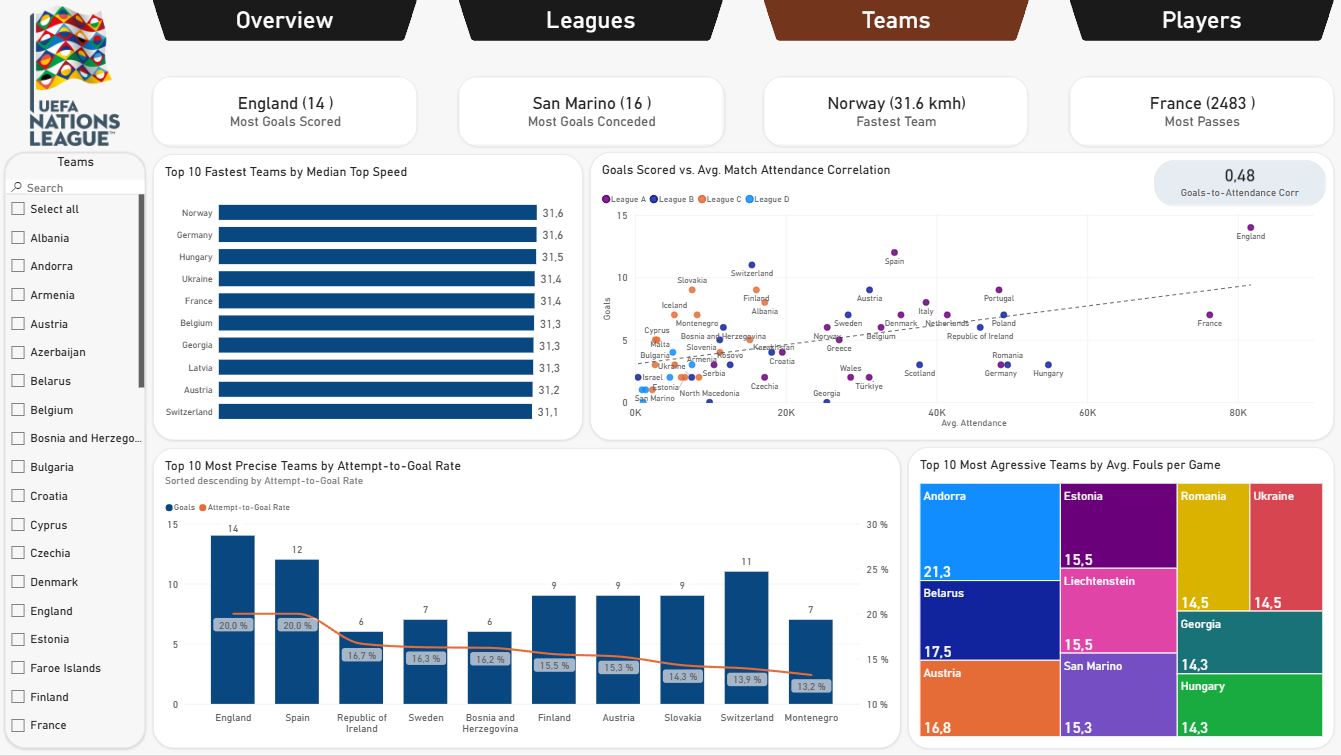

The page's visual inventory and layout, read from the dashboard file:
{"tool":"powerbi","page":{"name":"Teams","canvas":[1920,1080],"ordinal":2},"visuals":[{"type":"image","box":[10,10,200,200],"z":0},{"type":"cardVisual","fields":{"Data":["calculations.teams_most_goals"]},"box":[220.3,109.4,379.3,100.7],"z":1000},{"type":"cardVisual","fields":{"Data":["calculations.teams_most_goals_conceded"]},"box":[656.5,109.4,380.8,100.7],"z":2000},{"type":"cardVisual","fields":{"Data":["calculations.teams_most_passes"]},"box":[1530.5,109.4,379.3,100.7],"z":4000},{"type":"slicer","title":"Teams","fields":{"Values":["dim_teams.team_name"]},"box":[10,220,200,850],"z":5000},{"type":"actionButton","box":[220,0,379.3,59.8],"z":6000},{"type":"actionButton","box":[1093.3,0,380.8,59.8],"z":7000},{"type":"actionButton","box":[1530,0,379.3,59.8],"z":8000},{"type":"actionButton","box":[656.7,0,379.3,59.8],"z":9000},{"type":"clusteredBarChart","title":"Top 10 Fastest Teams by Median Top Speed","fields":{"Category":["dim_teams.team_name"],"Y":["calculations.median_top_speed"]},"box":[220.8,220.8,614,408.7],"z":10000},{"type":"lineClusteredColumnComboChart","title":"Top 10 Most Precise Teams by Attempt-to-Goal Rate","fields":{"Y":["calculations.goals_scored"],"Y2":["calculations.attempt_to_goal"],"Category":["dim_teams.team_name"]},"box":[221.4,641,1068.4,428.9],"z":11000},{"type":"treemap","title":"Top 10 Most Agressive Teams by Avg. Fouls per Game","fields":{"Group":["dim_teams.team_name"],"Values":["calculations.avg_fouls_per_game"]},"box":[1299.8,640.5,609.2,430.7],"z":12000},{"type":"group","id":"g1","title":"Group 1","box":[845.7,219.2,1063.4,411.9],"z":13000},{"type":"scatterChart","title":"Goals Scored vs. Avg. Match Attendance Correlation","fields":{"Category":["dim_teams.team_name"],"X":["calculations.avg_match_attendance"],"Y":["calculations.goals_scored"],"Series":["dim_teams.league_name"]},"box":[845.7,219.2,1063.4,411.9],"z":13000,"group":"g1"},{"type":"cardVisual","fields":{"Data":["calculations.teams_fastest_team"]},"box":[1092.9,110,379.3,100.7],"z":14000},{"type":"cardVisual","fields":{"Data":["calculations.goals_to_attendance_corr"]},"box":[1652,230,245.8,65.9],"z":14000,"group":"g1"}]}

Visuals, with their boxes on the page's 1920x1080 design canvas (x1, y1, x2, y2). These are canvas units, not pixel positions in the 1341x756 screenshot, which may show the page scaled, cropped or inside an application window:
image: bbox(10, 10, 210, 210)
cardVisual - calculations.teams_most_goals: bbox(220, 109, 600, 210)
cardVisual - calculations.teams_most_goals_conceded: bbox(656, 109, 1037, 210)
cardVisual - calculations.teams_most_passes: bbox(1530, 109, 1910, 210)
"Teams" slicer: bbox(10, 220, 210, 1070)
actionButton: bbox(220, 0, 599, 60)
actionButton: bbox(1093, 0, 1474, 60)
actionButton: bbox(1530, 0, 1909, 60)
actionButton: bbox(657, 0, 1036, 60)
"Top 10 Fastest Teams by Median Top Speed" clusteredBarChart: bbox(221, 221, 835, 630)
"Top 10 Most Precise Teams by Attempt-to-Goal Rate" lineClusteredColumnComboChart: bbox(221, 641, 1290, 1070)
"Top 10 Most Agressive Teams by Avg. Fouls per Game" treemap: bbox(1300, 640, 1909, 1071)
"Group 1" group: bbox(846, 219, 1909, 631)
"Goals Scored vs. Avg. Match Attendance Correlation" scatterChart: bbox(846, 219, 1909, 631)
cardVisual - calculations.teams_fastest_team: bbox(1093, 110, 1472, 211)
cardVisual - calculations.goals_to_attendance_corr: bbox(1652, 230, 1898, 296)
